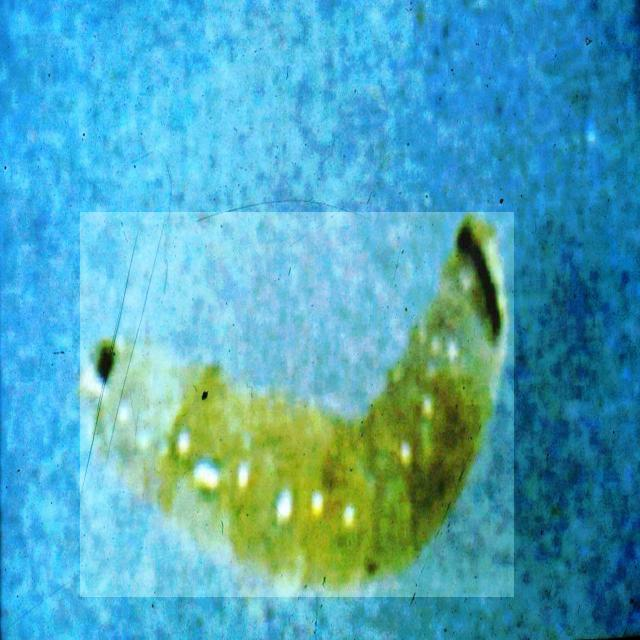whorl-maggot: (81, 213, 514, 597)
